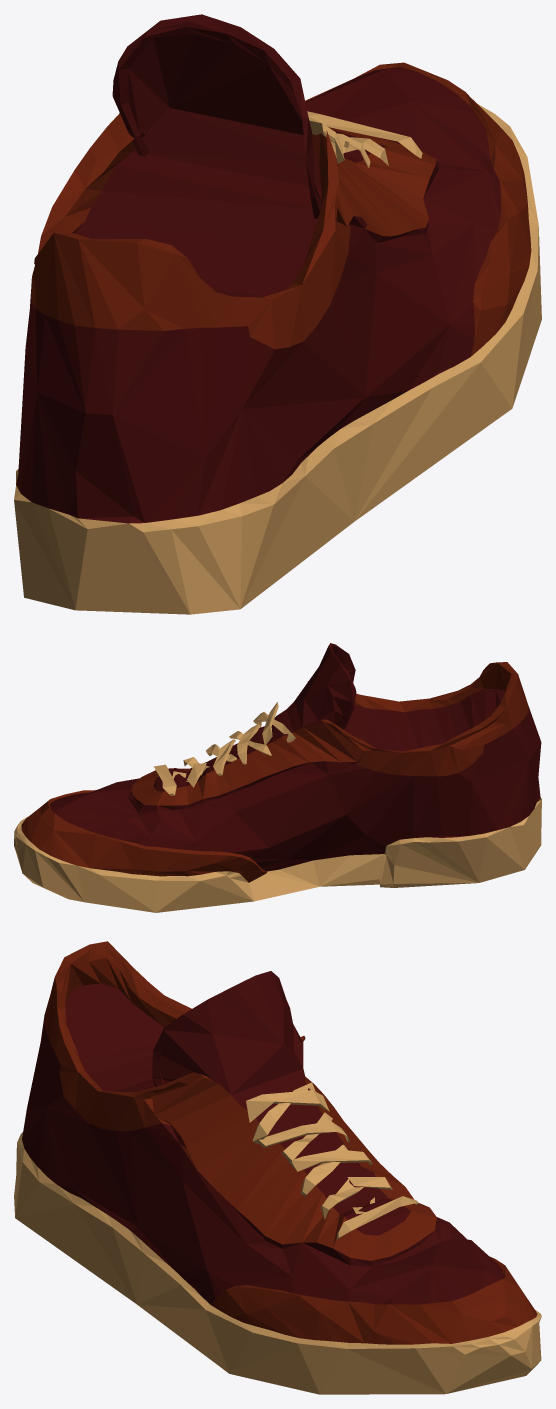
Rendered from gold.fbx.
3 views of the same model, one above another, from view 1: azimuth 30°, elevation 25°; view 2: azimuth 150°, elevation 25°; view 3: azimuth 270°, elevation 25° (orthographic). The views are drawn at different scales.
Parts seen in each view (by area): view 1: gold; view 2: gold; view 3: gold.
Part boxes in pixels (x1,y1,x2,y2): gold: (14,14,541,614); gold: (14,643,541,912); gold: (14,941,541,1394).
Bounding box in the file's own units: 22.04 × 13.02 × 20.19.
